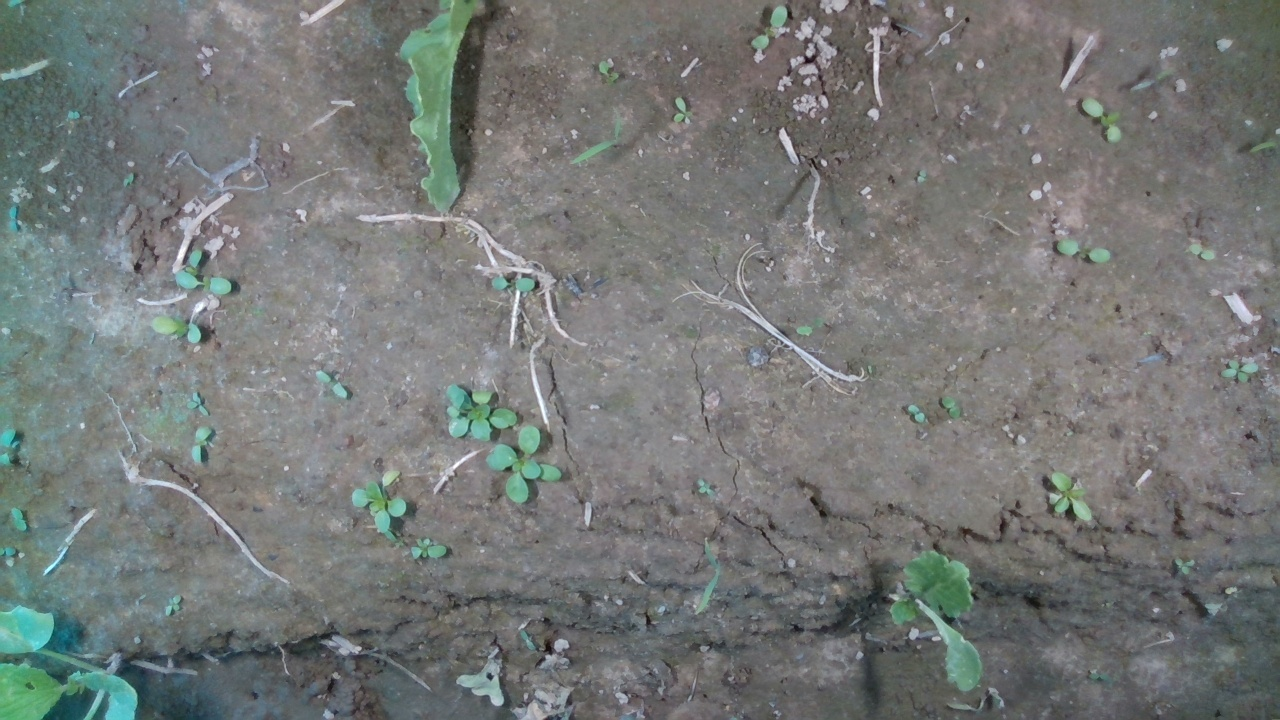weed: (1047, 470, 1094, 522), (1080, 95, 1122, 145), (751, 4, 787, 52), (151, 313, 202, 345), (172, 270, 234, 296), (1056, 239, 1111, 265), (312, 369, 349, 401), (190, 425, 215, 467), (1221, 360, 1260, 384), (410, 537, 448, 561), (490, 276, 536, 293), (185, 390, 211, 417), (673, 95, 696, 125), (939, 395, 962, 420), (8, 505, 28, 533), (1186, 242, 1216, 260), (904, 403, 926, 424), (596, 60, 618, 80), (1173, 557, 1195, 576)
